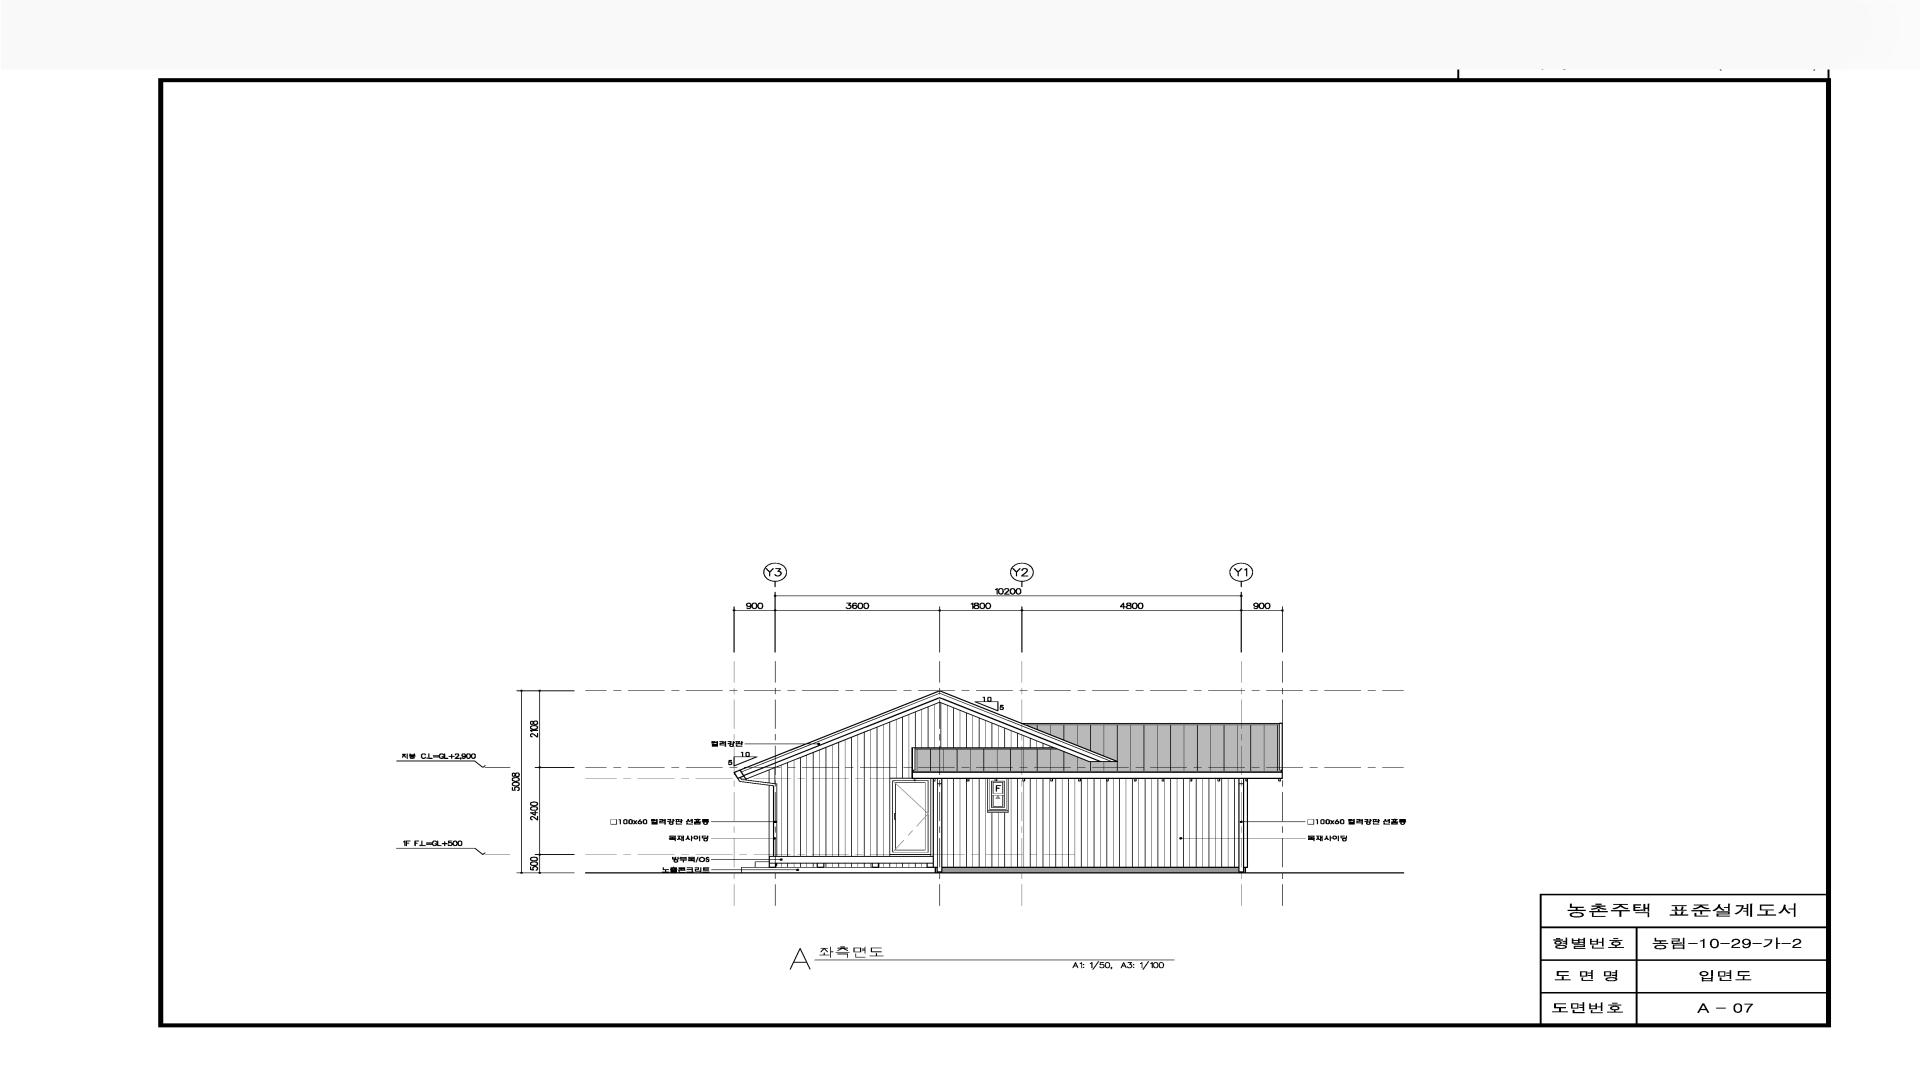door: (890, 778, 931, 855)
wall: (740, 690, 1283, 873), (741, 867, 935, 873)
window: (988, 779, 1008, 811)
